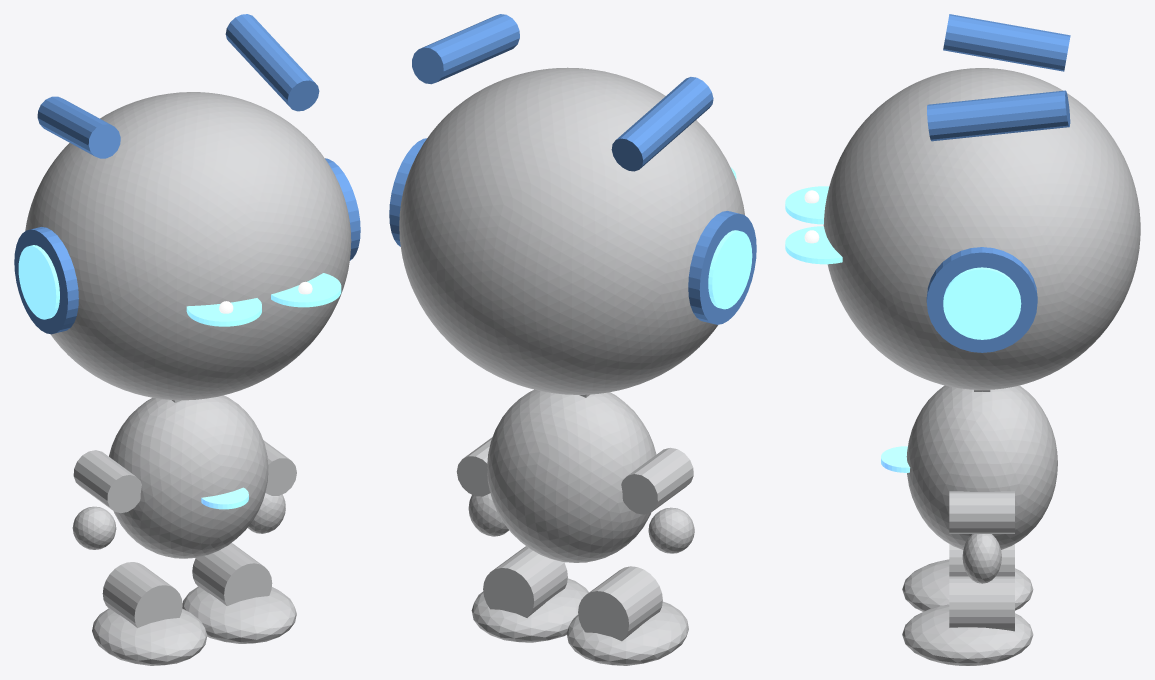
File: vipprow-mascot-v2-waving.glb
3 renders of one model, left to right at view 1: azimuth 30°, elevation 25°; view 2: azimuth 150°, elevation 25°; view 3: azimuth 270°, elevation 25°, orthographic. The views are drawn at different scales.
Parts seen in each view (by area): view 1: head, torso, foot_left, foot_right, ear_right, leg_left, leg_right, headphone_left, ear_left, arm_left_upper, headphone_glow_left, hand_left (+6 smaller); view 2: head, torso, ear_left, leg_left, foot_left, ear_right, leg_right, foot_right, headphone_left, arm_left_upper, headphone_glow_left, hand_left (+3 smaller); view 3: head, torso, ear_right, foot_right, headphone_right, ear_left, headphone_glow_right, leg_right, arm_right_upper, foot_left, hand_right, eye_ring_right (+3 smaller).
Part boxes in pixels (x1,y1,x2,y2): head: (25,92,351,400); torso: (109,395,268,558); foot_left: (92,608,207,665); foot_right: (182,587,296,643); ear_right: (225,14,319,111); leg_left: (102,562,182,627); leg_right: (192,543,272,605); headphone_left: (14,227,78,334); ear_left: (37,96,120,158); arm_left_upper: (73,450,141,513); headphone_glow_left: (18,245,59,319); hand_left: (72,506,116,549); head: (399,67,744,394); torso: (487,389,656,562); ear_left: (611,77,713,171); leg_left: (578,566,662,641); foot_left: (566,601,688,665); ear_right: (412,14,519,84); leg_right: (483,546,567,617); foot_right: (471,578,588,642); headphone_left: (688,211,756,324); arm_left_upper: (621,447,693,514); headphone_glow_left: (708,230,752,309); hand_left: (648,507,694,553); head: (823,68,1140,389); torso: (906,385,1057,549); ear_right: (927,90,1070,141); foot_right: (902,604,1033,665); headphone_right: (926,247,1037,352); ear_left: (943,14,1070,71); headphone_glow_right: (943,267,1021,339); leg_right: (949,576,1014,631); arm_right_upper: (949,491,1014,533); foot_left: (902,559,1033,611); hand_right: (962,534,1001,583); eye_ring_right: (785,226,842,264).
Size of the model in its own units: 0.872 by 1.58 by 0.8664.
